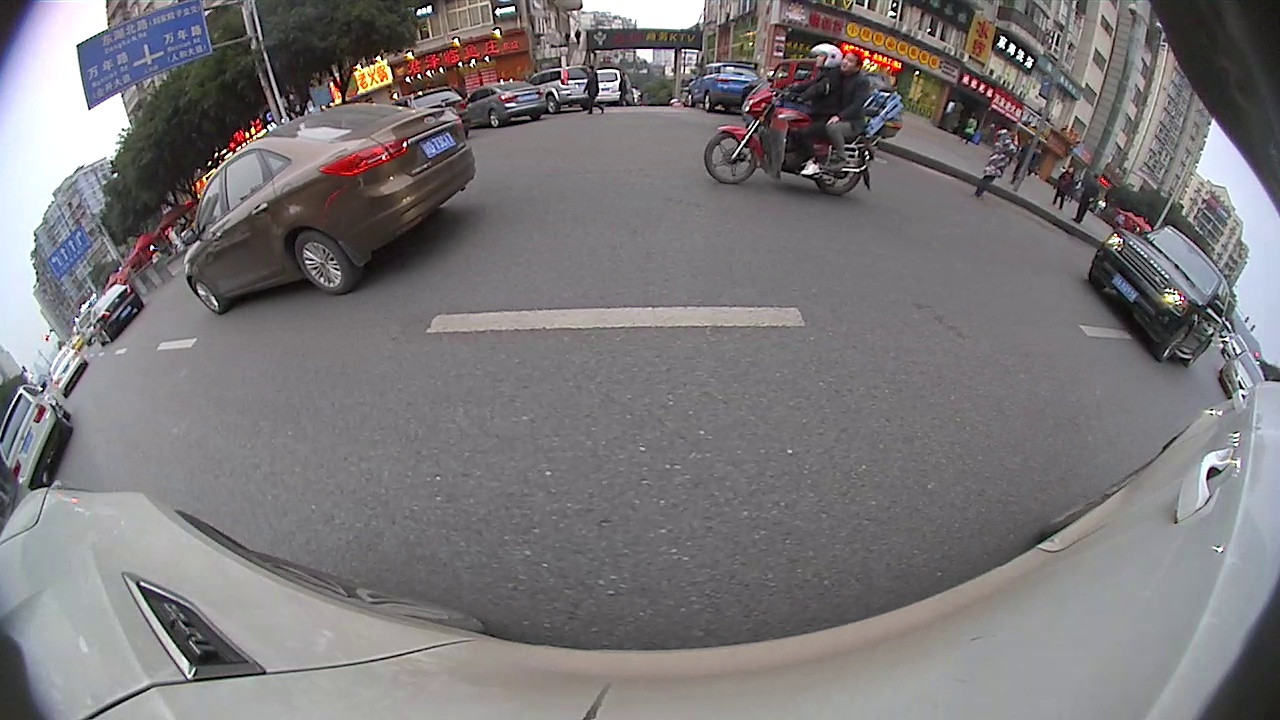car: (184, 101, 480, 313), (1084, 225, 1237, 364), (1, 384, 75, 492), (680, 56, 762, 110), (472, 74, 550, 130), (87, 281, 147, 345), (398, 84, 473, 130), (531, 60, 596, 109), (1216, 348, 1267, 398), (46, 341, 90, 398), (593, 65, 641, 109)
front: (700, 128, 762, 188), (186, 274, 228, 318)
rear: (290, 226, 357, 299), (813, 145, 865, 200)
rider: (701, 43, 905, 194)
